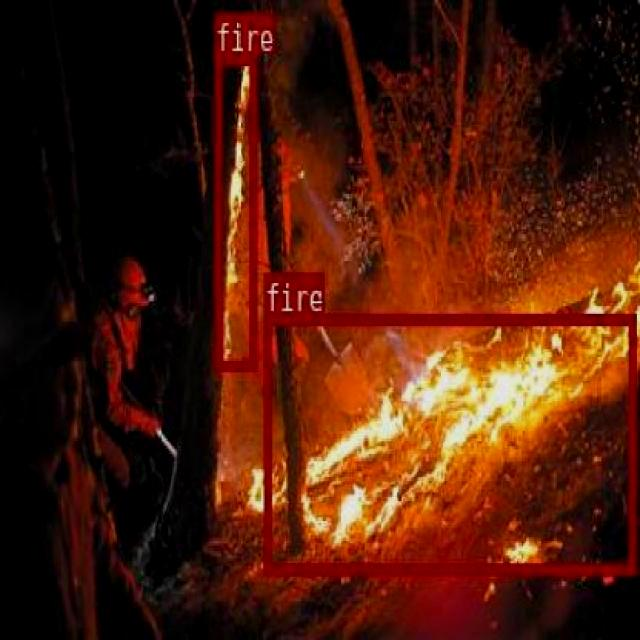fire: (262, 314, 636, 572), (213, 52, 254, 368)
